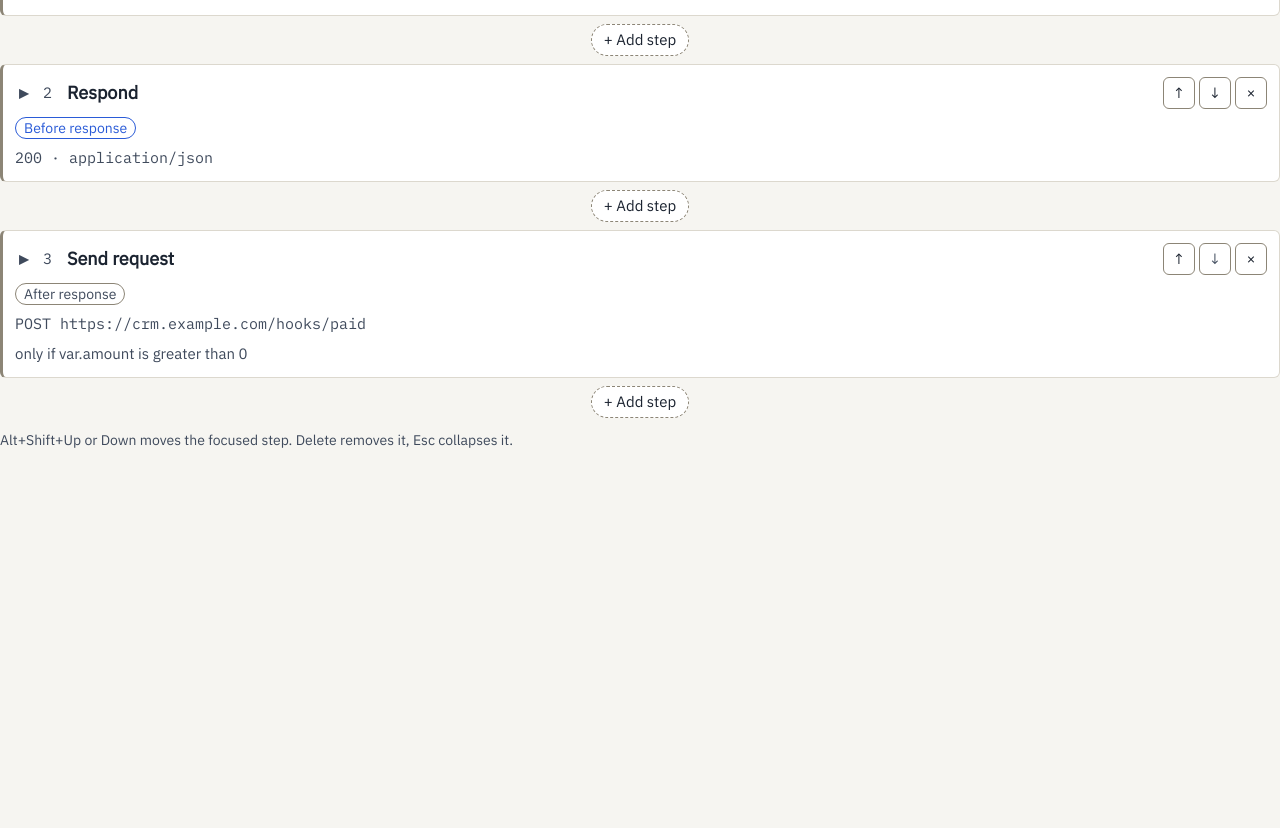
Test case: StepList cards › shows the guard editor and keeps an enabled empty guard as an error
Click the button "▸ 2 Respond": (103, 92) [15,77,1155,109]
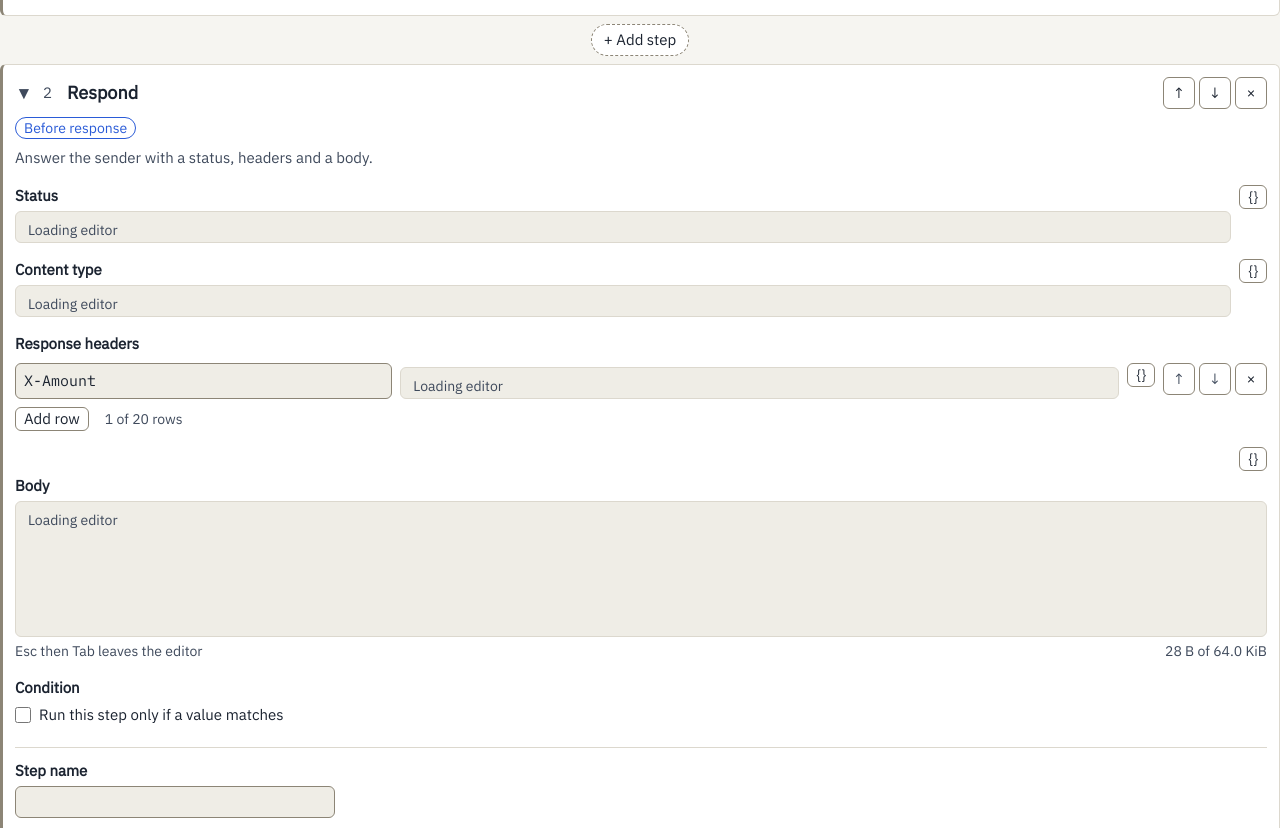
Click the checkbox labelled "Run this step only if a value matches": (23, 715) [15,707,31,723]
(page scrolled)
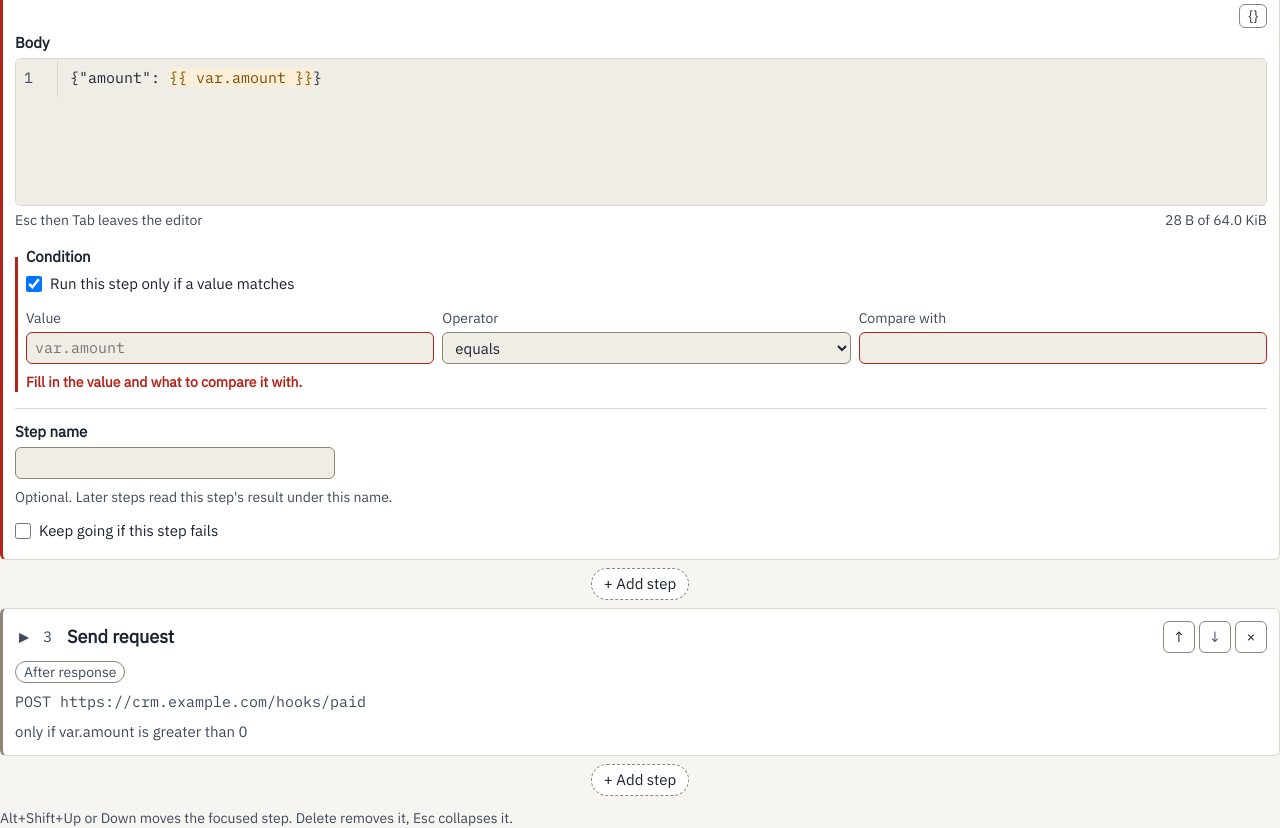
Check: the text "Fill in the value and what to compare it with." is shown, box [26,373,302,391]
